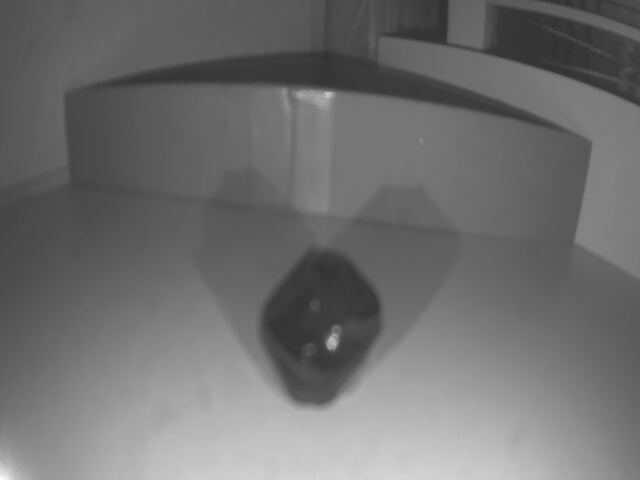Dead: (263, 251, 380, 409)
Point: (62, 85, 597, 248)
